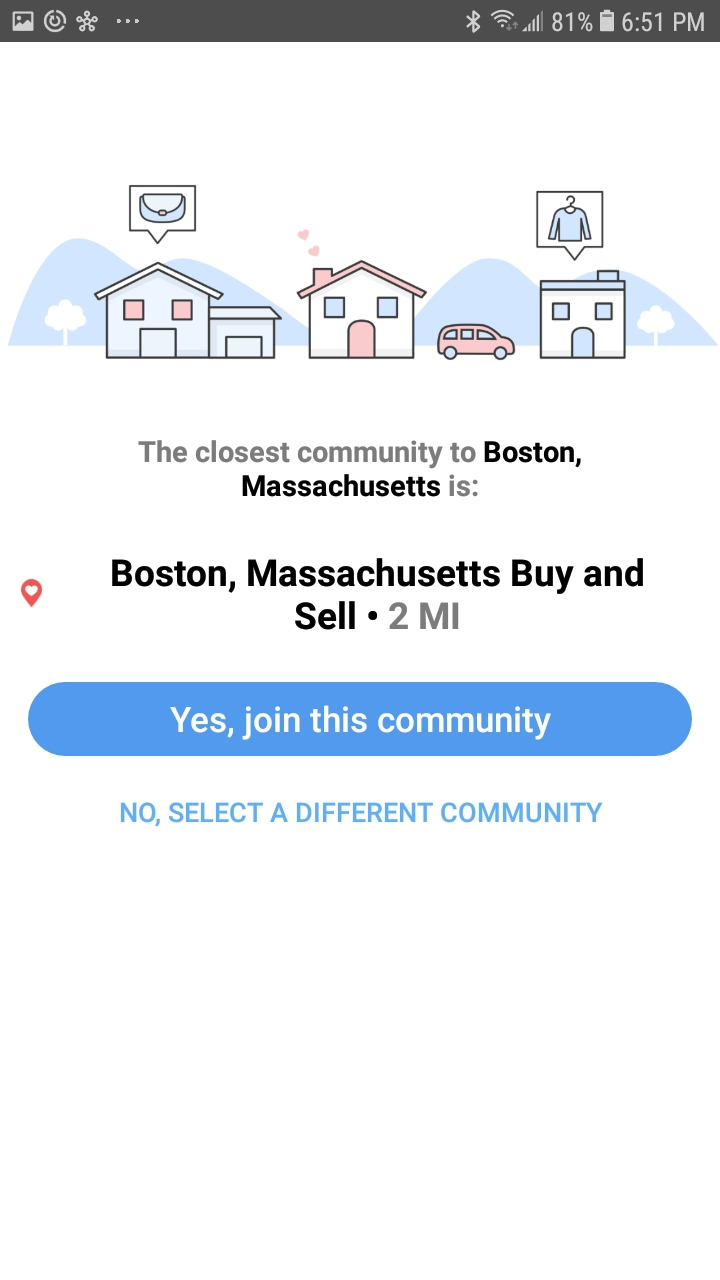Icon: (21, 579, 43, 608)
Image: (1, 185, 720, 362)
Text: (112, 558, 644, 631), (139, 439, 583, 498), (121, 802, 603, 827)
TextButton: (29, 682, 693, 757)
UpperTaskBar: (1, 1, 720, 43)
